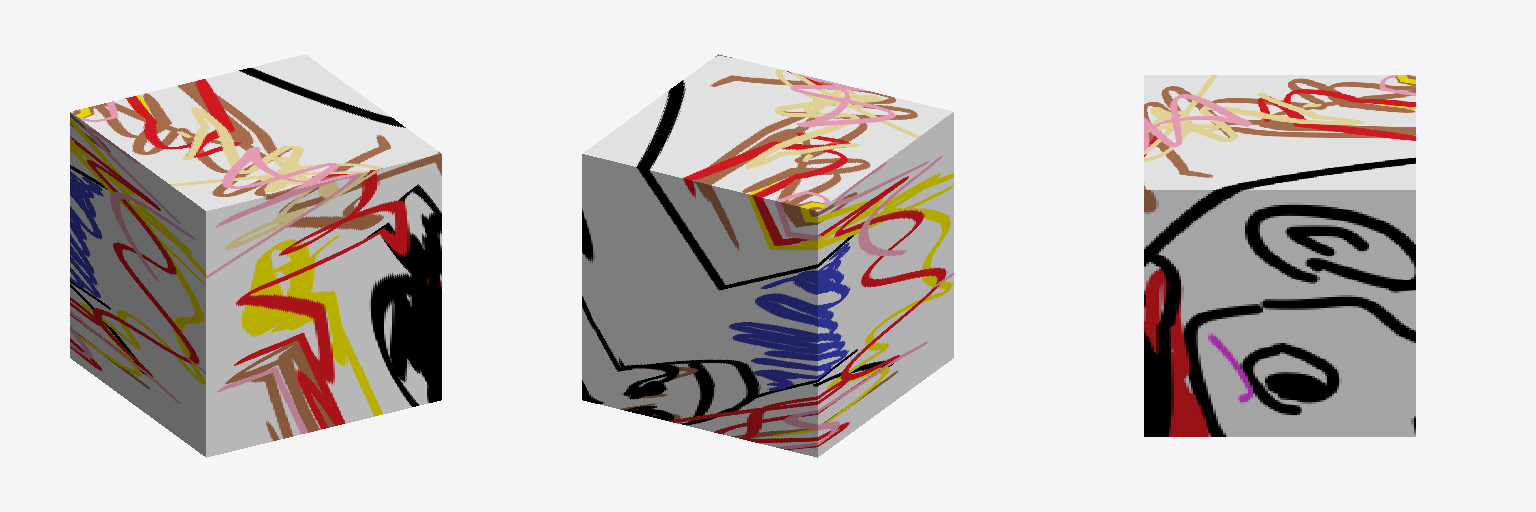
The picture shows the model from 3 angles: view 1: azimuth 30°, elevation 25°; view 2: azimuth 150°, elevation 25°; view 3: azimuth 270°, elevation 25°; orthographic projection.
Parts seen in each view (by area): view 1: Cube; view 2: Cube; view 3: Cube.
Part boxes in pixels (x1,y1,x2,y2): Cube: (70,54,441,457); Cube: (582,54,953,457); Cube: (1144,75,1415,436).
Size of the model in its own units: 2 by 2 by 2.
Materials: 1 (1 with a texture image).